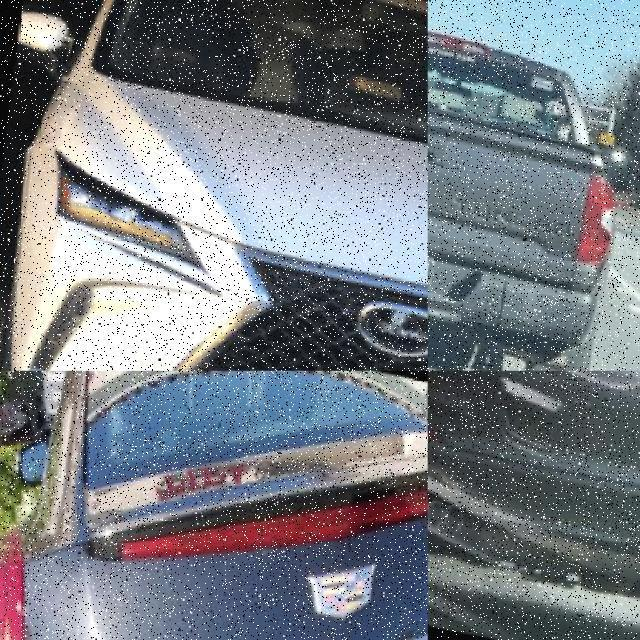LicensePlate: (492, 371, 620, 448)
